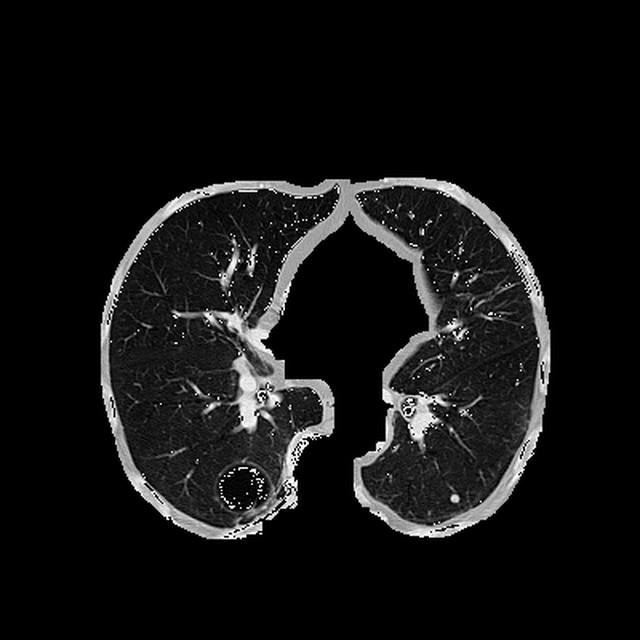PN: (450, 493, 459, 502)
